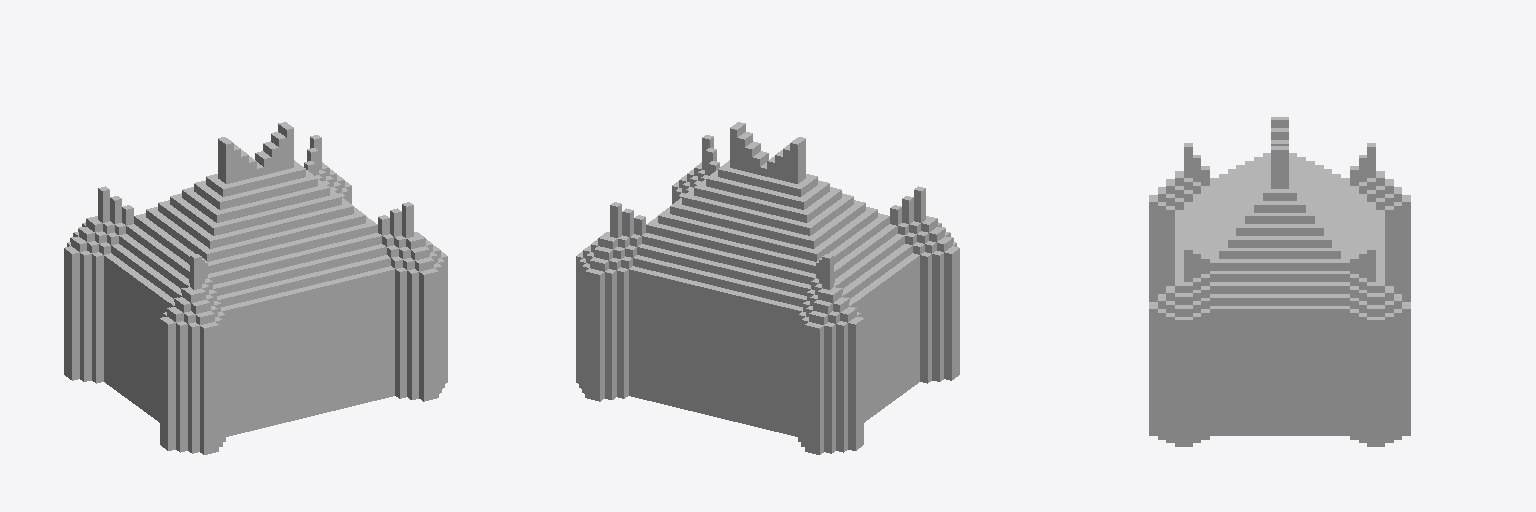
Rendered from HouseFull 1.obj.
The picture shows the model from 3 angles: view 1: azimuth 30°, elevation 25°; view 2: azimuth 150°, elevation 25°; view 3: azimuth 270°, elevation 25°; orthographic projection.
Visible parts, largest first — view 1: HouseFull; view 2: HouseFull; view 3: HouseFull.
Part boxes in pixels (bbox=[...]): HouseFull: bbox=[64, 122, 447, 454]; HouseFull: bbox=[576, 122, 959, 454]; HouseFull: bbox=[1149, 117, 1410, 446].
Size of the model in its own units: 37 by 31 by 30.